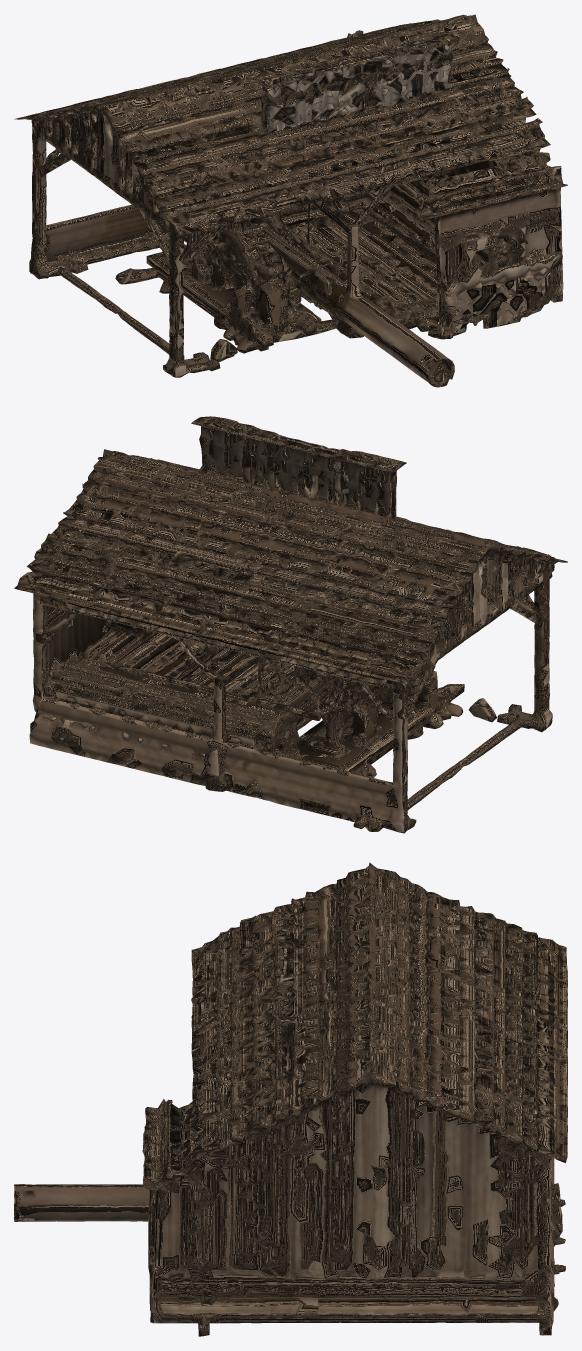
Rendered from lumber_camp__sawmill-serenity.glb.
3 views of the same model, one above another, from view 1: azimuth 30°, elevation 25°; view 2: azimuth 150°, elevation 25°; view 3: azimuth 270°, elevation 25° (orthographic). The views are drawn at different scales.
Size of the model in its own units: 1.77 by 1.09 by 1.9.
1 material, 1 textured.
